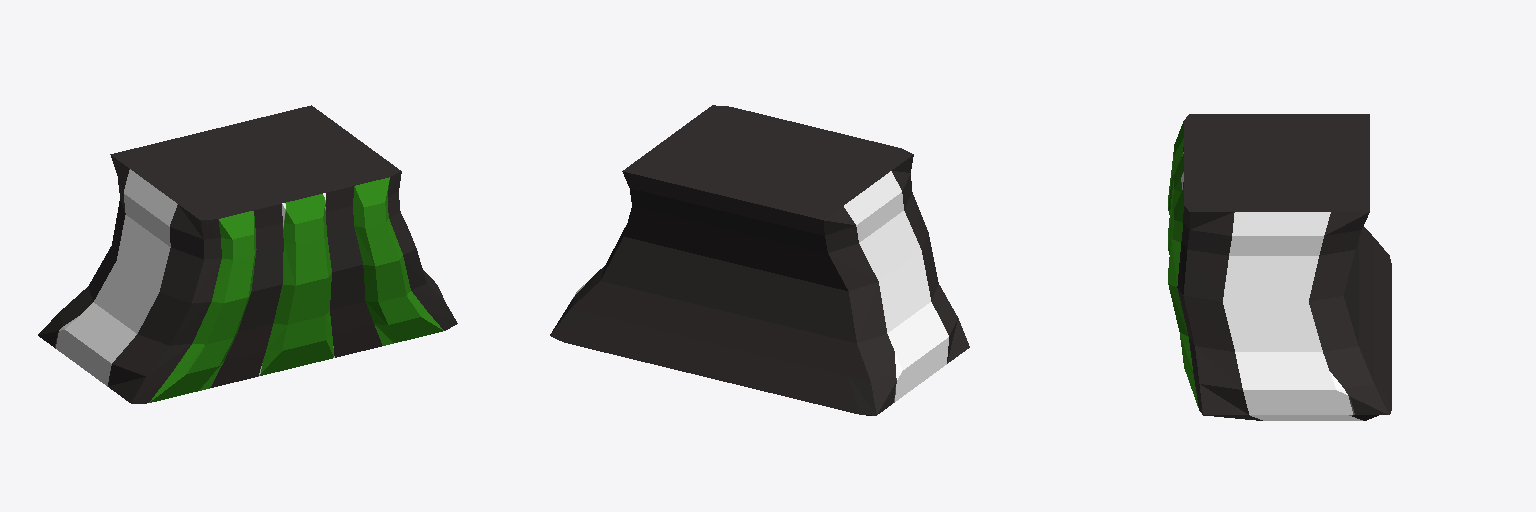
3 renders of one model, left to right at view 1: azimuth 30°, elevation 25°; view 2: azimuth 150°, elevation 25°; view 3: azimuth 270°, elevation 25°, orthographic.
Bounding box in the file's own units: 87.83 × 47.79 × 52.07.
1 materials, 1 textured.